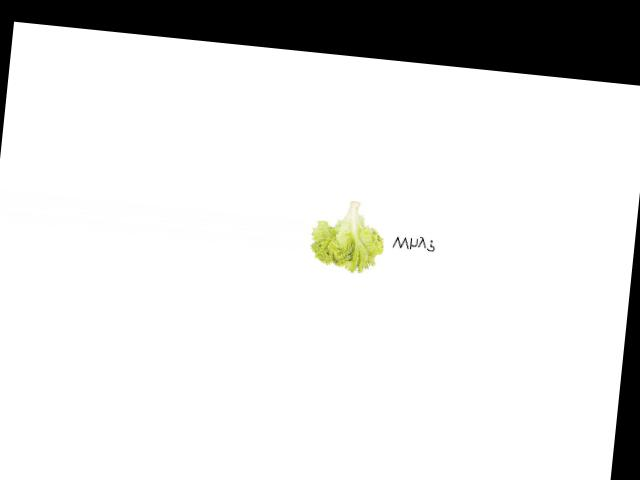lettuce: (305, 195, 395, 276)
